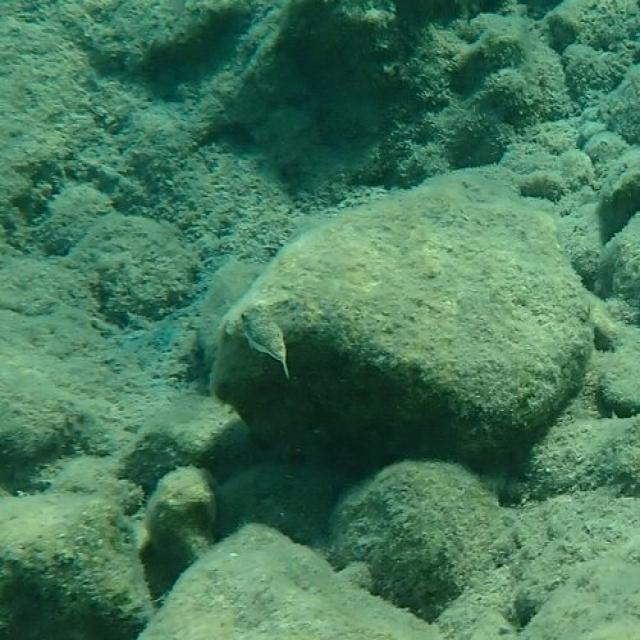Balik: (241, 309, 289, 379)
